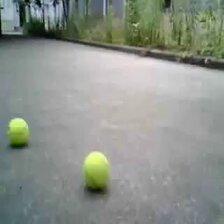tennis: (82, 152, 109, 188), (6, 118, 30, 147)
